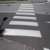zebra: (2, 4, 41, 38)
